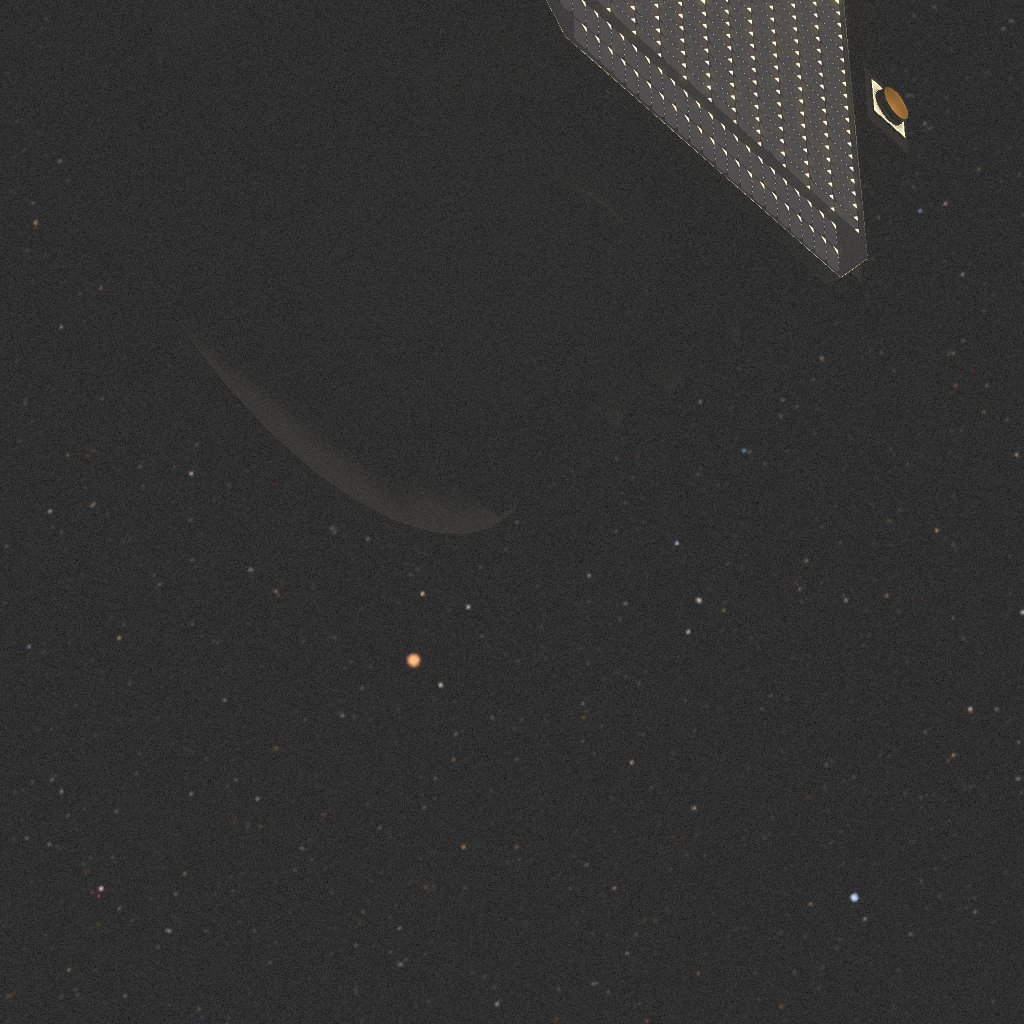proba_3_ocs: (49, 0, 909, 551)
